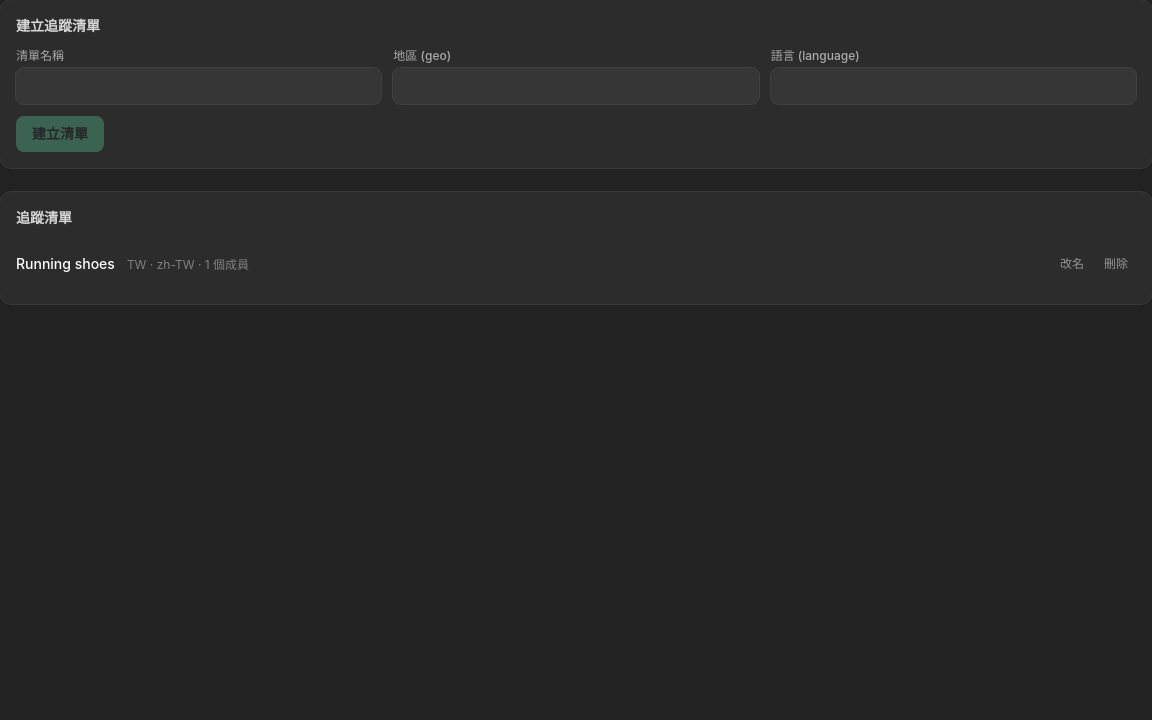
TC-40 · TrackingListsView › closes the member panel when the currently-open list is deleted
This screenshot has width=1152, height=720.
Click the button with aria-label "檢視 Running shoes 成員" at x=65, y=264, box [16,254,115,274]
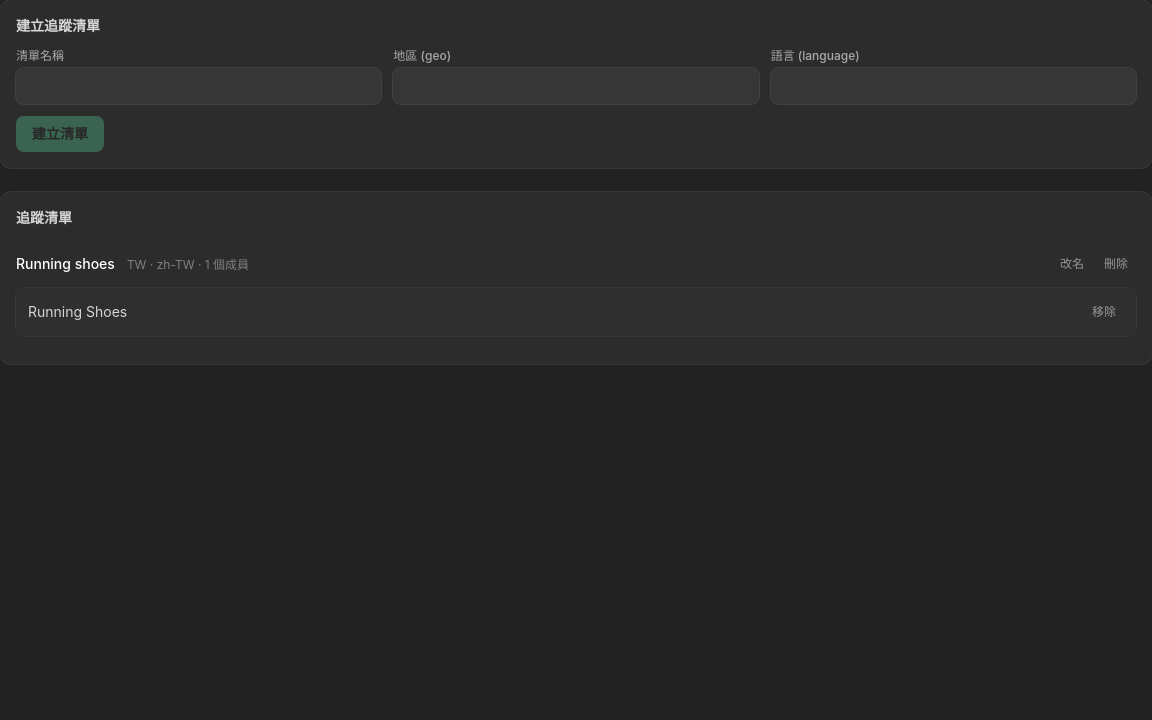
Now the text "Running Shoes" is shown, box [28,302,127,322]
Click the button with aria-label "刪除 Running shoes" at x=1116, y=264, box [1096,252,1136,276]
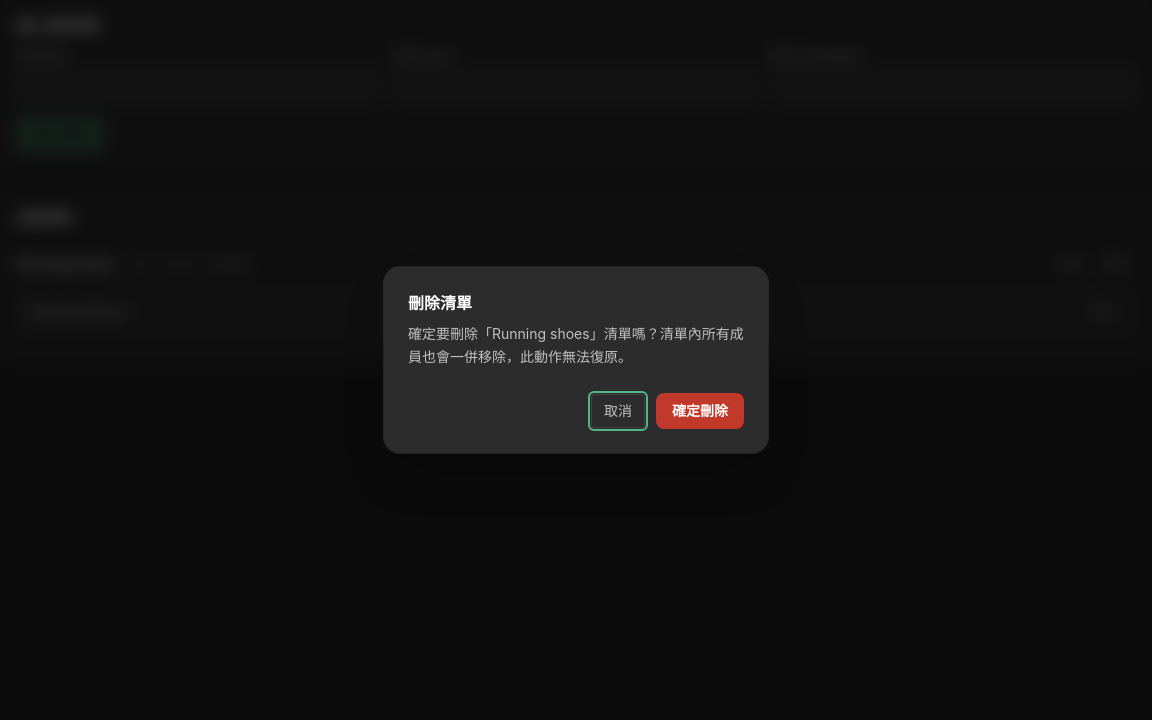
Click the button "確定刪除" at x=700, y=411, box [656,393,744,429]
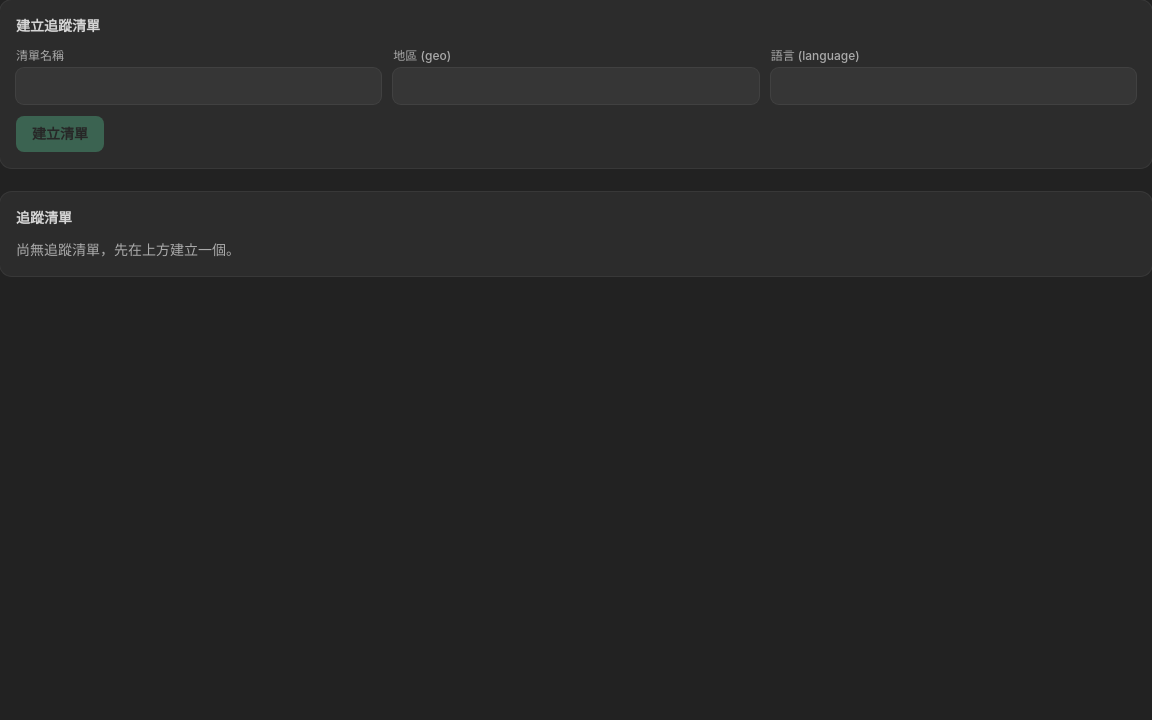
Now the button "Running shoes" is gone
